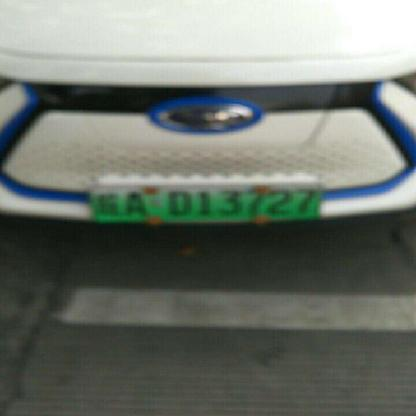lp: (92, 185, 318, 223)
